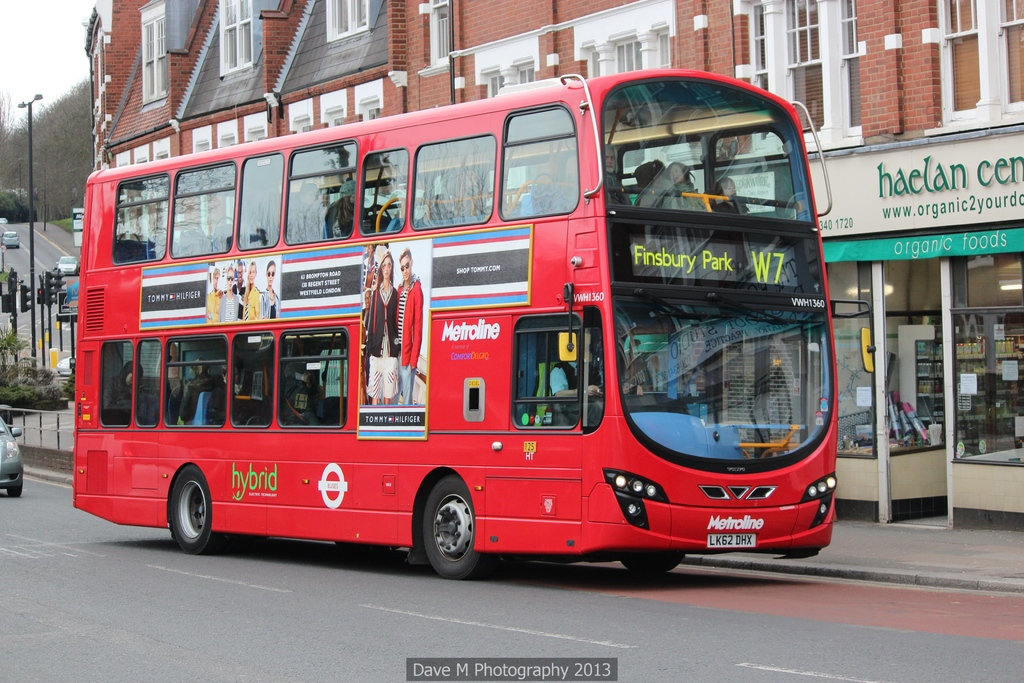Bus: (69, 65, 878, 582)
